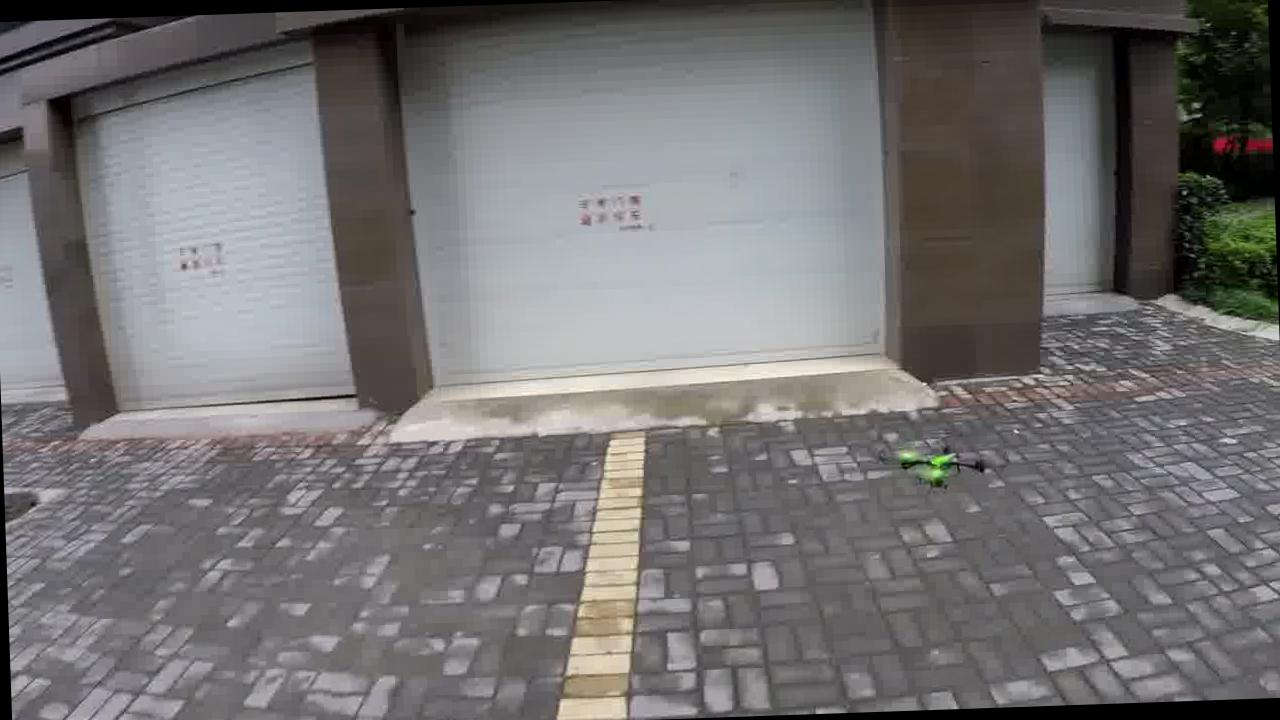drone: (876, 423, 1014, 494)
